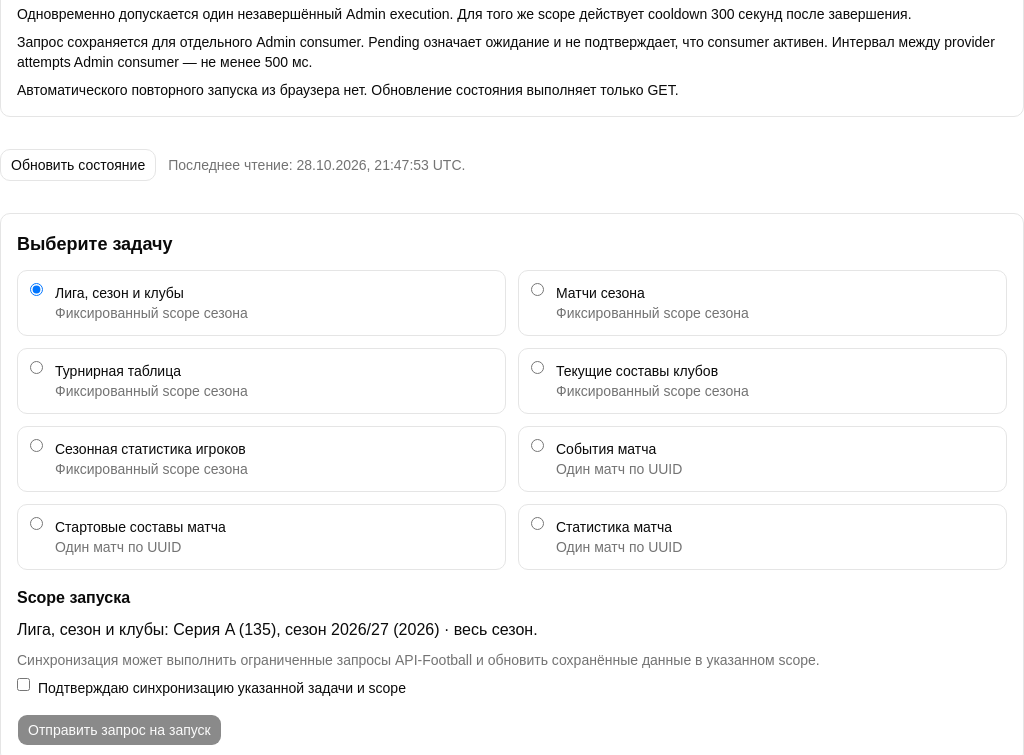
Scenario: Football synchronization component › confirms fixed scope for Матчи сезона
Check: the button "Обновить состояние" is enabled, box x1=0 y1=149 x2=156 y2=181
Click the radio button labelled "Матчи сезона Фиксированный scope сезона" at (538, 290), box x1=531 y1=283 x2=544 y2=296
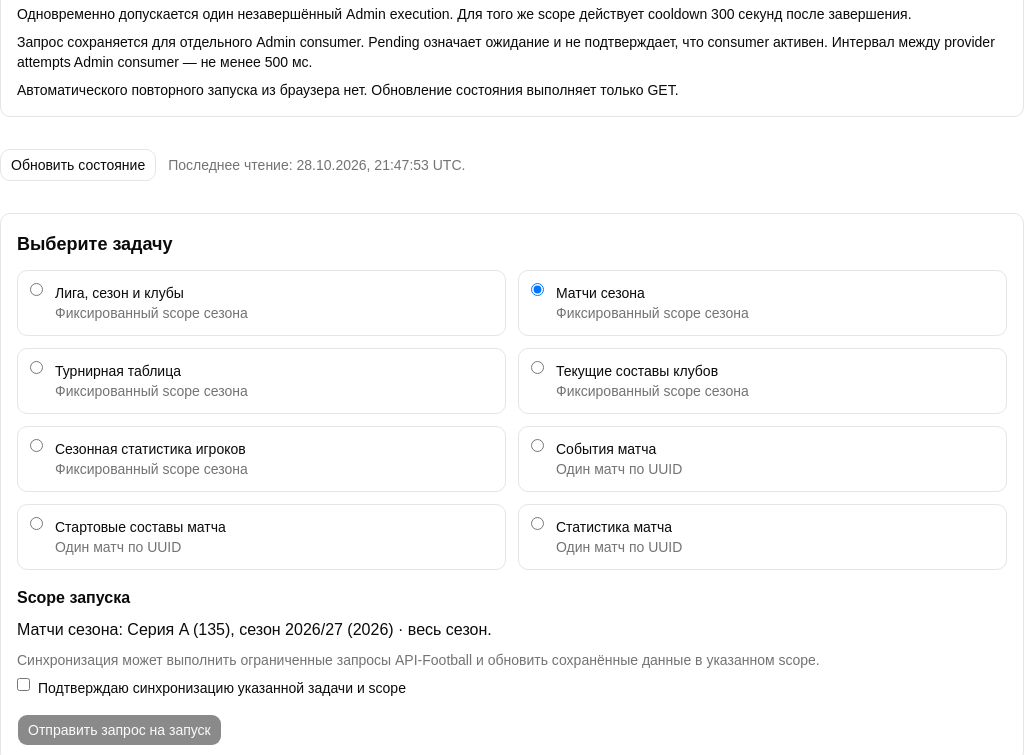
Check: the text "Серия A (135), сезон 2026/27 (2026) · весь сезон" is shown, box x1=127 y1=621 x2=487 y2=638
Click the checkbox labelled "Подтверждаю синхронизацию указанной задачи и scope" at (24, 684), box x1=17 y1=678 x2=30 y2=691
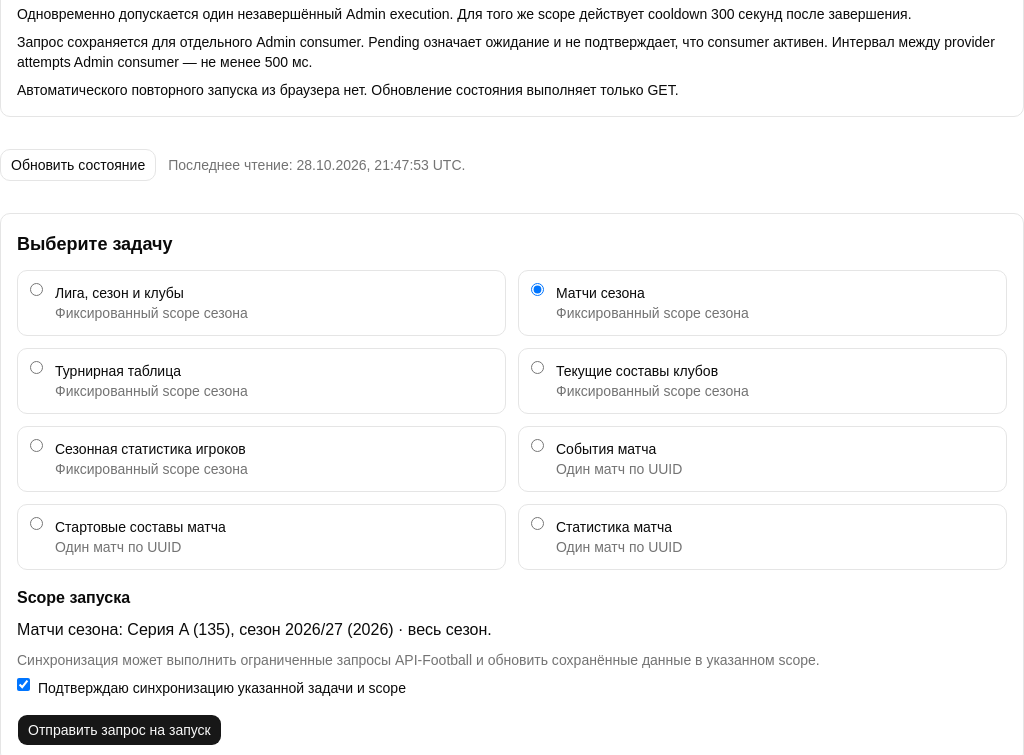
Click the button "Отправить запрос на запуск" at (119, 730), box x1=17 y1=714 x2=222 y2=746
(page scrolled)
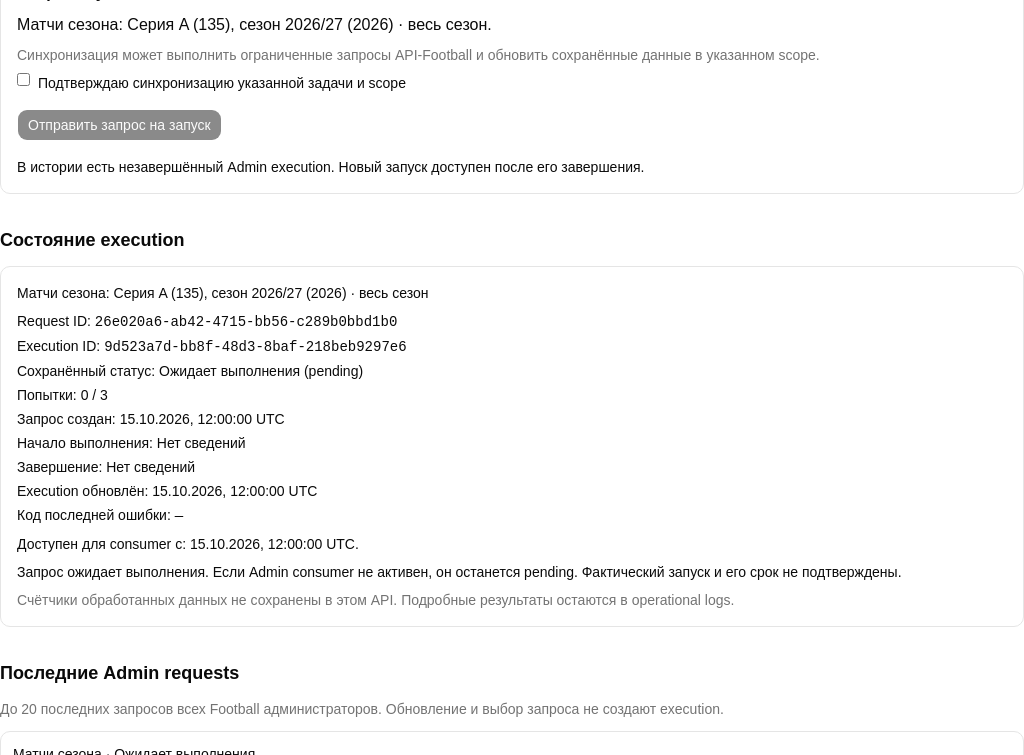
Check: the text "Ожидает выполнения (pending)" is shown, box x1=159 y1=363 x2=363 y2=379
